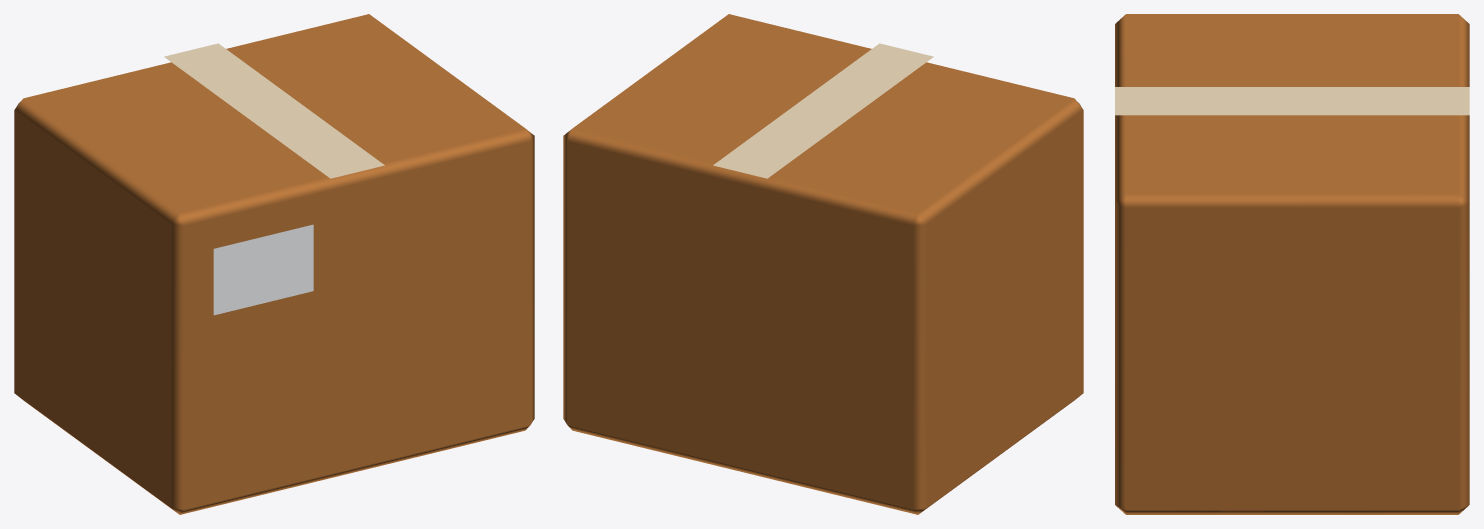
Rendered from CM_Interior_CardboardBox.fbx.
3 views of the same model, side by side, from view 1: azimuth 30°, elevation 25°; view 2: azimuth 150°, elevation 25°; view 3: azimuth 270°, elevation 25° (orthographic). The views are drawn at different scales.
Parts seen in each view (by area): view 1: Body; view 2: Body; view 3: Body.
Part boxes in pixels (x1,y1,x2,y2): Body: (14,14,534,514); Body: (563,14,1083,514); Body: (1115,14,1469,514).
Bounding box in the file's own units: 2 × 1.6 × 1.6.
Materials: 1 (1 with a texture image).
